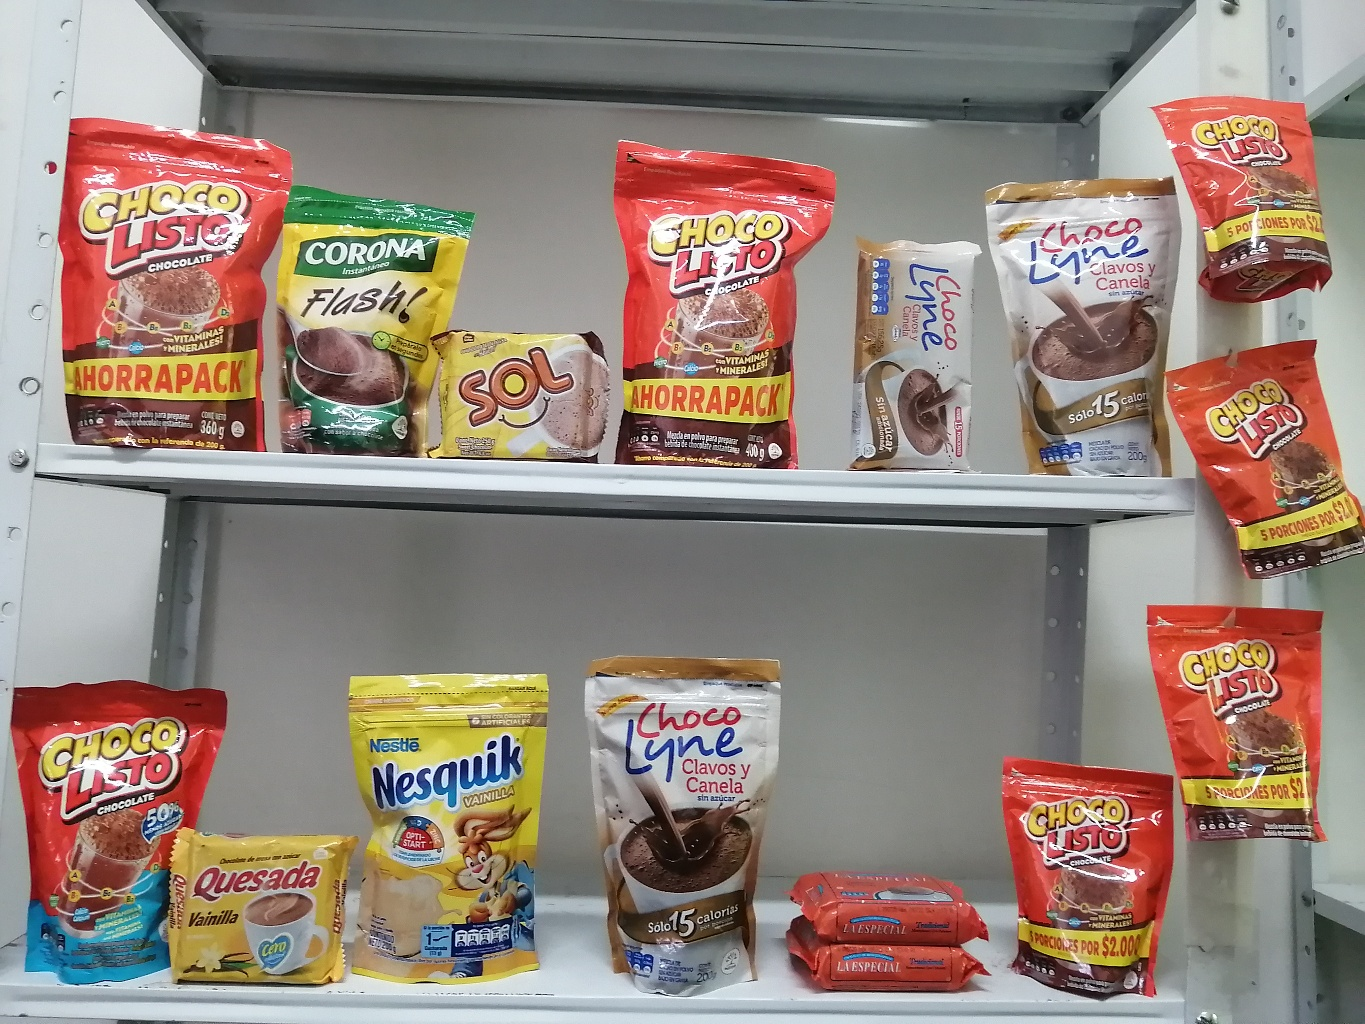COL0170103DYP10000: (1164, 85, 1338, 303)
COL0170103DYP36000: (59, 108, 283, 459)
COL0170103DYP40000: (612, 122, 845, 473)
COL0170104DYP20000: (8, 678, 236, 993)
COL0170306DYP20000: (340, 654, 577, 984)
